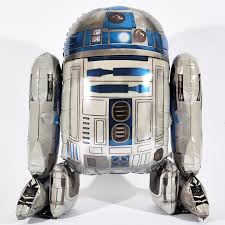r2d2: (16, 6, 209, 219)
